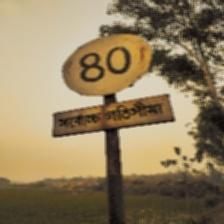Speed-limit: (53, 31, 171, 138)
